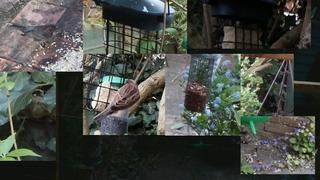blackbird: (9, 24, 59, 51)
sparrow: (93, 78, 141, 124)
